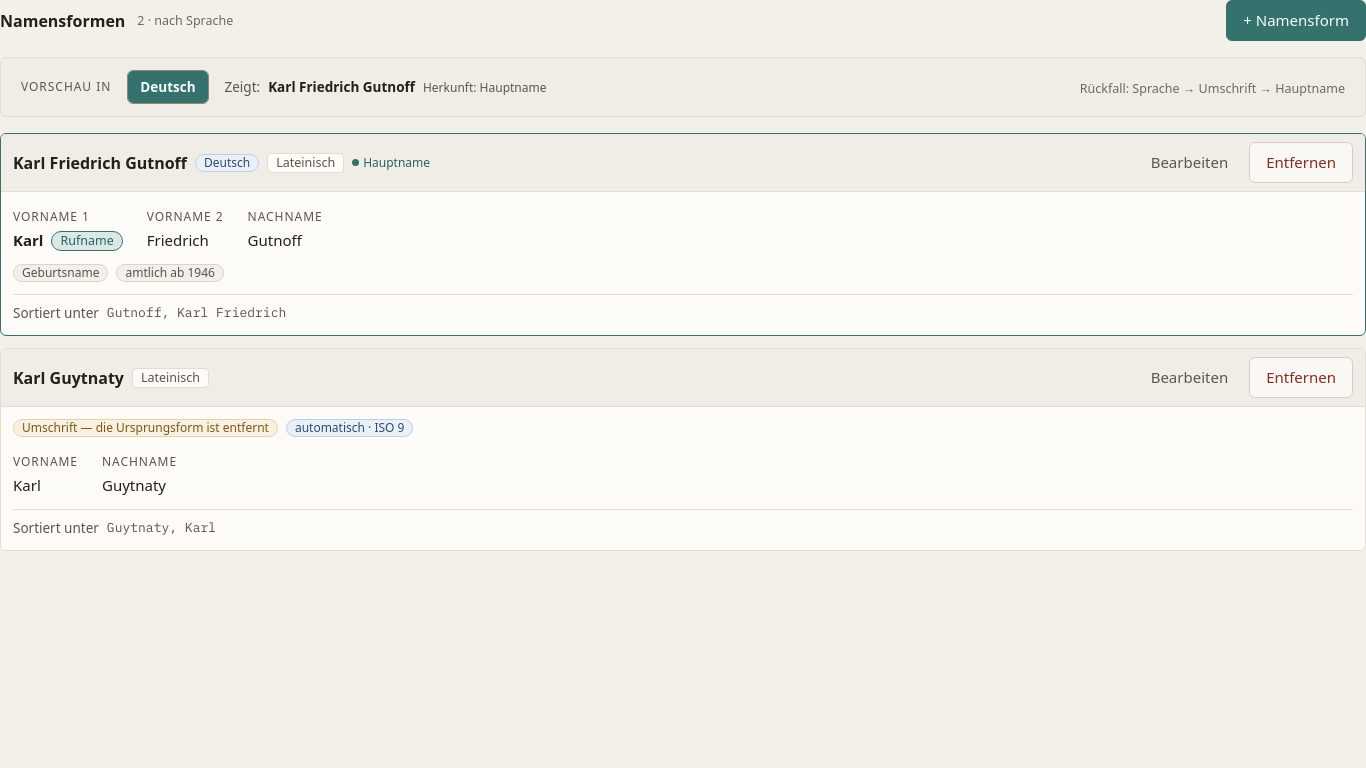
ReiterNamen › 11c-2: Karten und Modal ohne Farbliteral; Beschriftungen kommen aus i18n
This screenshot has width=1366, height=768.
Click the 1st button "Bearbeiten". click: [1189, 162]
box: [1134, 142, 1245, 183]
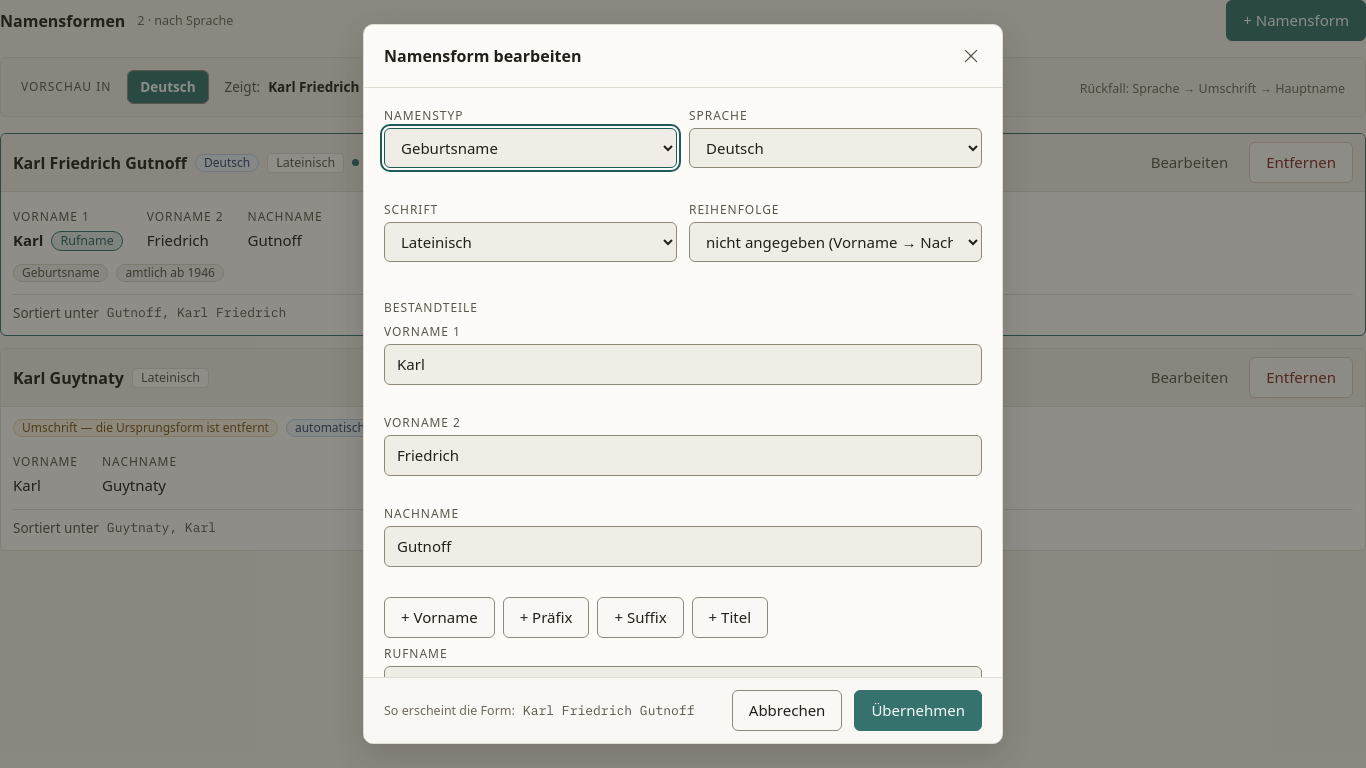
Expected: the heading "Namensformen" is shown, [0, 10, 125, 32]
Now the dialog shows "Vorname 1", box [384, 323, 461, 340]
Now the dialog shows "Rufname", box [384, 645, 448, 662]
